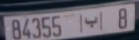3: (32, 17, 41, 39)
4: (22, 17, 31, 39)
5: (41, 16, 51, 38), (52, 15, 61, 37)
8: (118, 7, 128, 29), (11, 18, 21, 40)
b: (85, 16, 98, 28)
